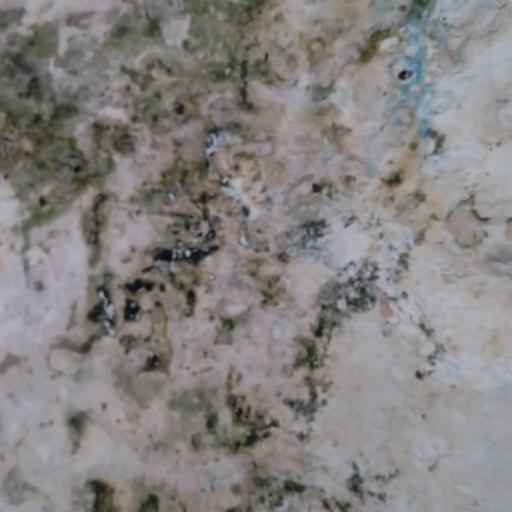algae: (0, 0, 370, 421)
